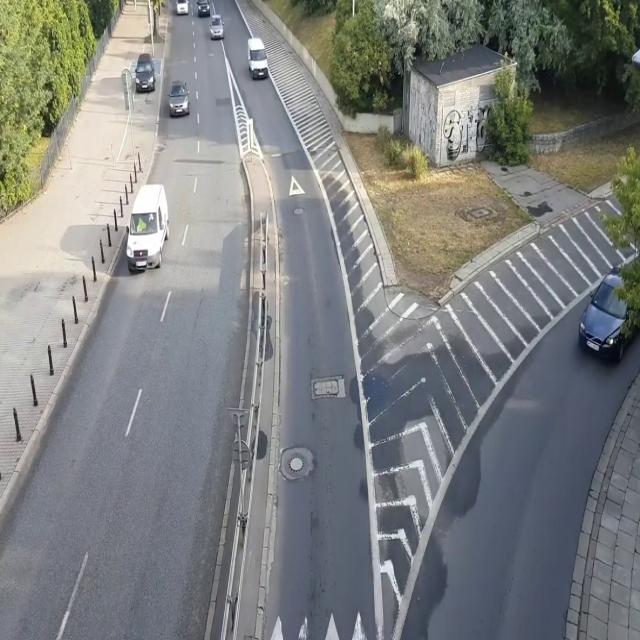car: (578, 263, 640, 366), (134, 54, 156, 94), (168, 79, 190, 118), (209, 14, 225, 40), (195, 0, 210, 17), (175, 0, 189, 16)
van: (126, 184, 170, 274), (246, 37, 269, 80)
